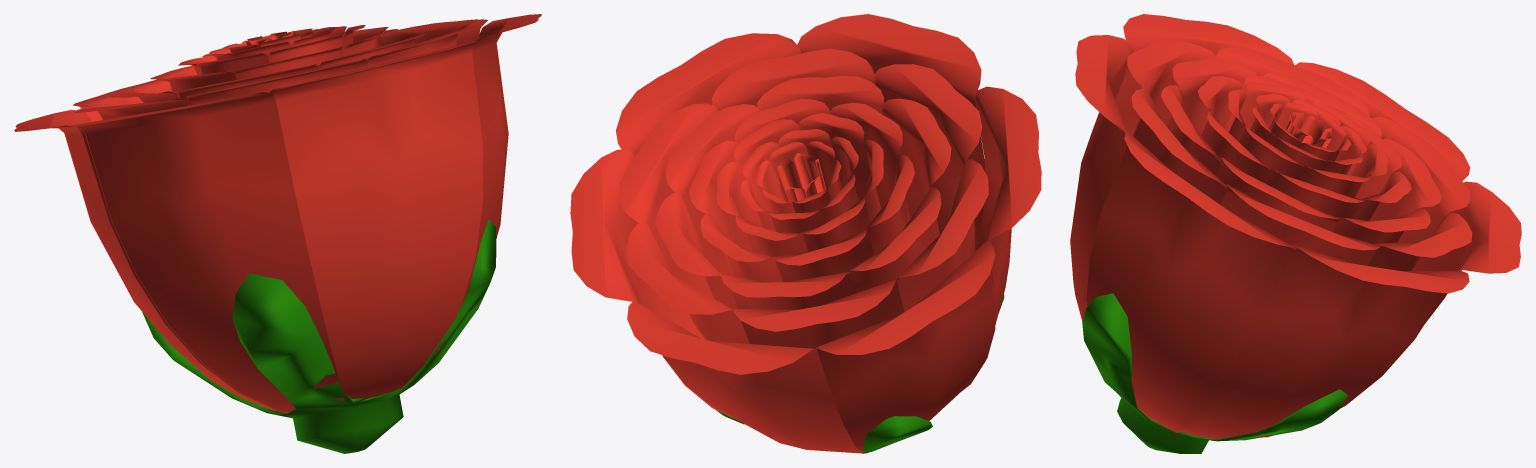
The model's file is CharacterSeed_Rose.fbx.
3 views of the same model, side by side, from view 1: azimuth 30°, elevation 25°; view 2: azimuth 150°, elevation 25°; view 3: azimuth 270°, elevation 25° (orthographic). The views are drawn at different scales.
Visible parts, largest first — view 1: Rose_Stem; view 2: Rose_Stem; view 3: Rose_Stem.
Part boxes in pixels (<box>): Rose_Stem: <box>14,14,541,453</box>; Rose_Stem: <box>570,14,1041,453</box>; Rose_Stem: <box>1070,14,1521,453</box>.
Size of the model in its own units: 39.75 by 35.38 by 37.43.
